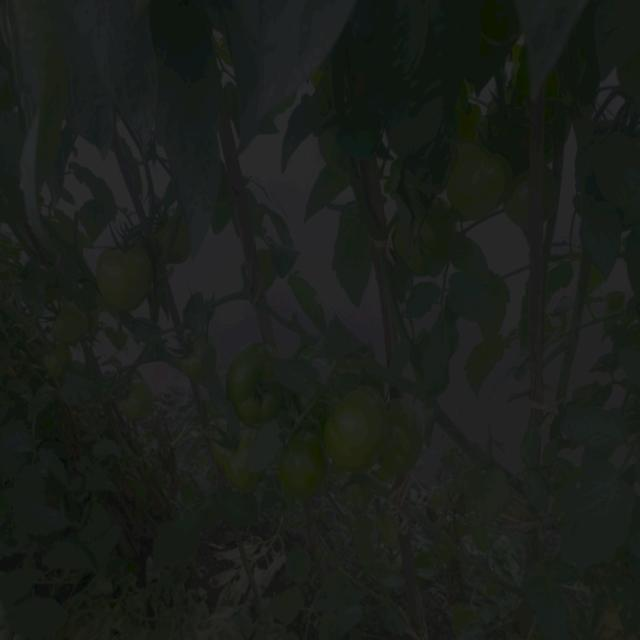tomato: (321, 387, 393, 472), (93, 243, 161, 314), (454, 142, 512, 217), (227, 343, 284, 415), (378, 398, 425, 481), (280, 434, 331, 497), (116, 378, 158, 426), (173, 337, 216, 380), (210, 407, 245, 457), (153, 215, 185, 263), (227, 455, 263, 494), (510, 166, 535, 219), (47, 304, 85, 337), (251, 252, 278, 280)
